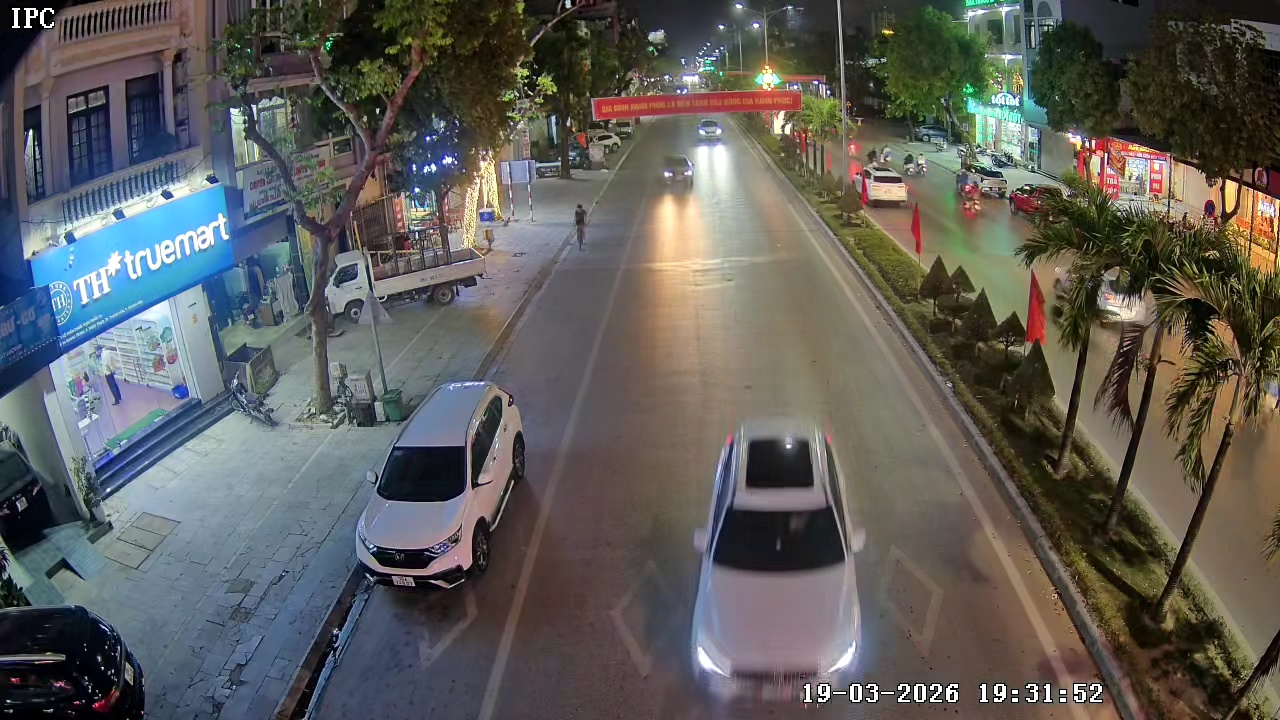car: (684, 426, 873, 716), (353, 378, 532, 596), (0, 603, 150, 719), (863, 163, 910, 207), (868, 144, 927, 178), (660, 154, 695, 187), (696, 115, 725, 142)
